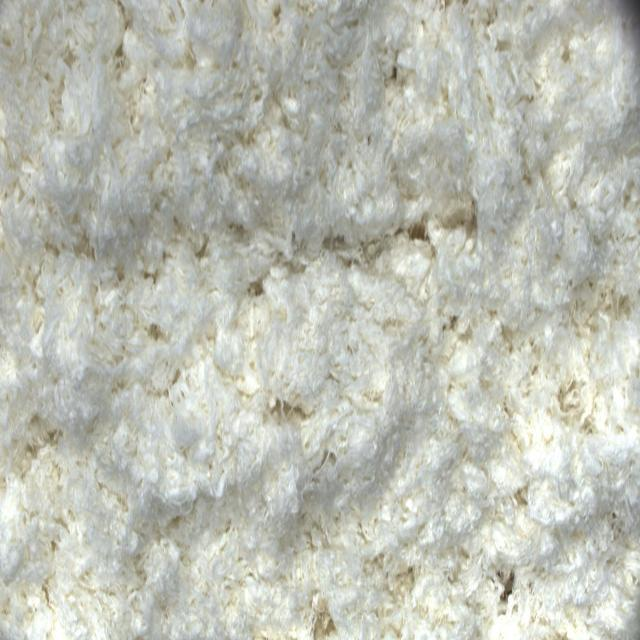dust: (496, 567, 523, 614), (400, 219, 438, 252)
